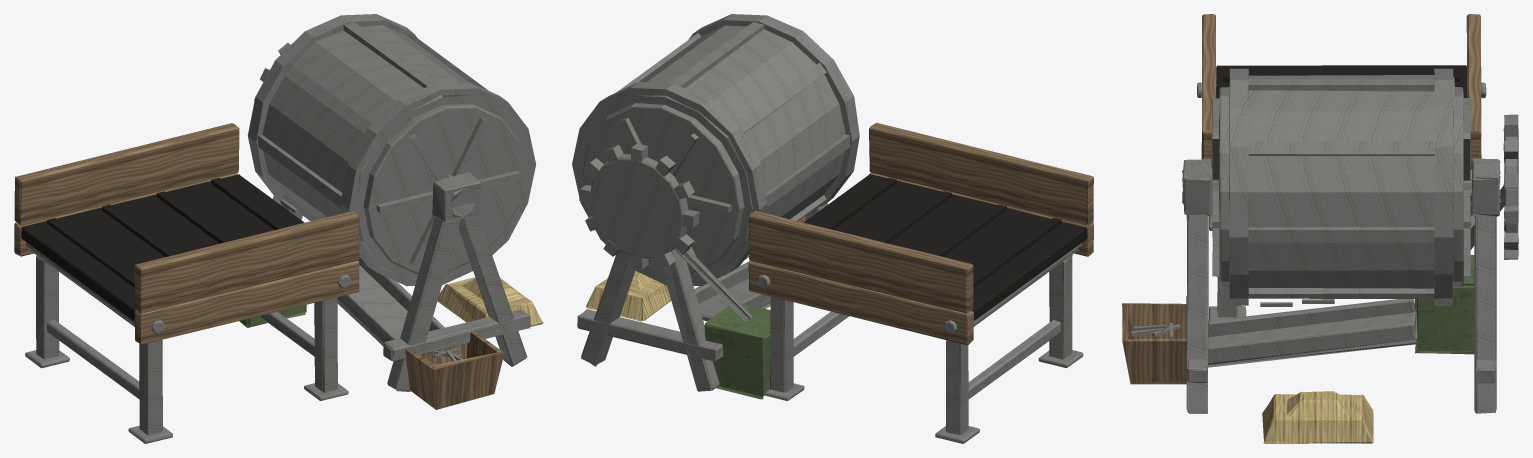
File: magnet_drum_small.glb
3 views of the same model, side by side, from view 1: azimuth 30°, elevation 25°; view 2: azimuth 150°, elevation 25°; view 3: azimuth 270°, elevation 25° (orthographic). The views are drawn at different scales.
Visible parts, largest first — view 1: MagnetDrumSmall, Drum, Belt, Roller; view 2: MagnetDrumSmall, Drum, Belt, Roller; view 3: Drum, MagnetDrumSmall, Belt.
Boxes of the visible parts, left/top/right/bottom form: MagnetDrumSmall: left=14, top=123, right=543, bottom=443; Drum: left=247, top=14, right=536, bottom=286; Belt: left=21, top=174, right=304, bottom=320; Roller: left=25, top=242, right=134, bottom=326; MagnetDrumSmall: left=577, top=122, right=1093, bottom=443; Drum: left=572, top=14, right=859, bottom=286; Belt: left=804, top=174, right=1087, bottom=320; Roller: left=973, top=243, right=1082, bottom=326; Drum: left=1212, top=68, right=1518, bottom=306; MagnetDrumSmall: left=1122, top=14, right=1504, bottom=443; Belt: left=1216, top=65, right=1466, bottom=98.
Bounding box in the file's own units: 3.31 × 2.02 × 2.39.
5 materials, 4 textured.
